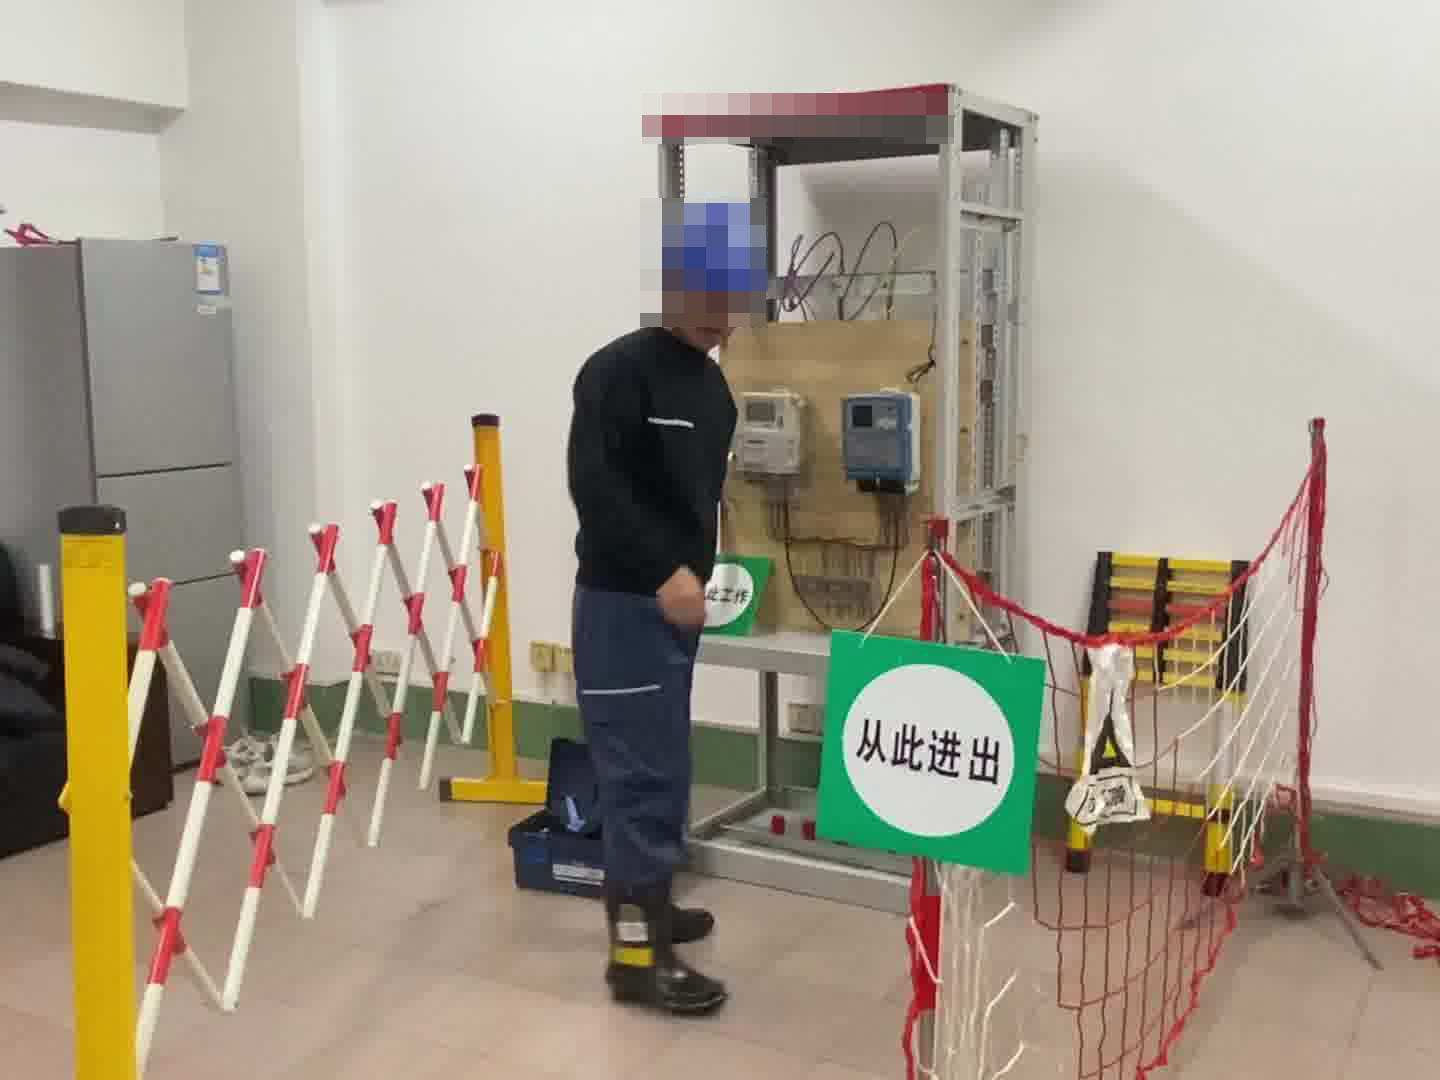downsuit: (554, 581, 706, 896)
halt: (656, 199, 773, 349)
hand: (655, 568, 713, 639)
intosign: (811, 635, 1028, 859)
person: (530, 197, 785, 966)
shoe: (600, 897, 719, 1008)
upcloth: (564, 327, 742, 590)
worksign: (707, 555, 765, 635)
